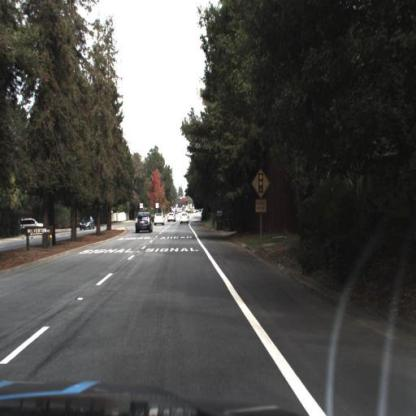car: (11, 208, 51, 241), (77, 210, 98, 237), (134, 210, 155, 237), (177, 208, 193, 231), (151, 211, 165, 229), (166, 210, 177, 227)
